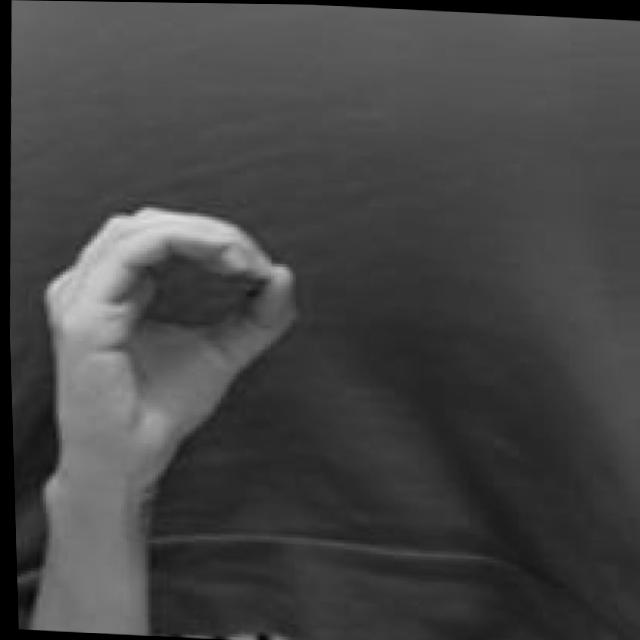O: (31, 196, 306, 489)
